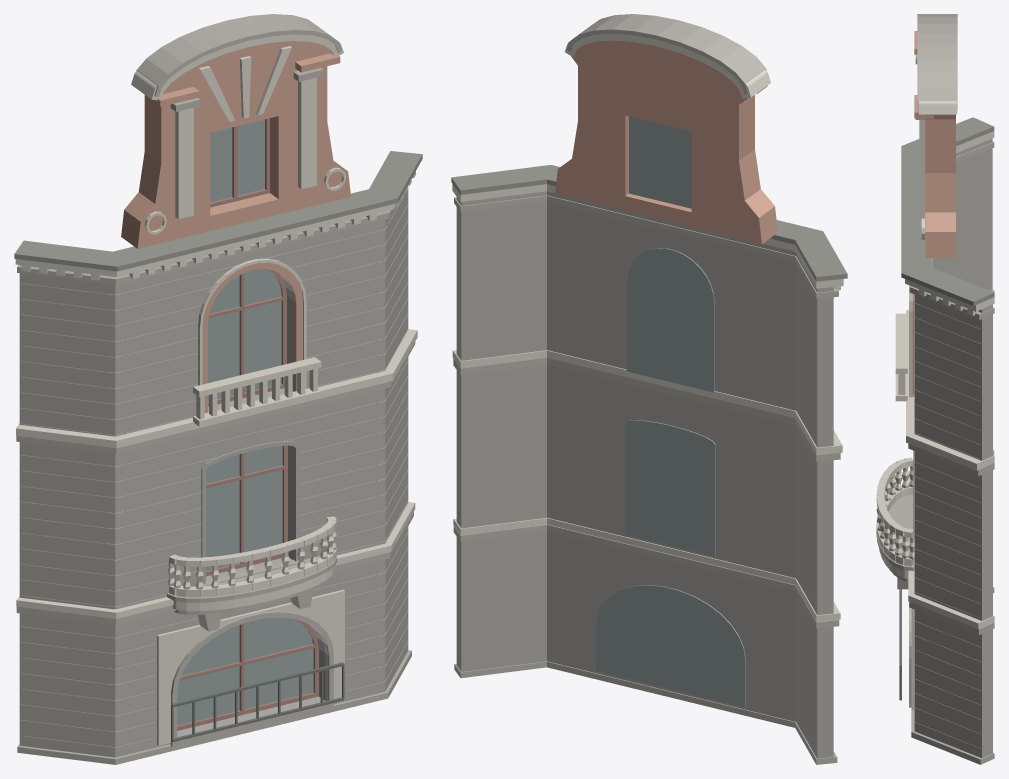
Rendered from huangpu-hardoon-building-chamfer-lod.glb.
3 renders of one model, left to right at view 1: azimuth 30°, elevation 25°; view 2: azimuth 150°, elevation 25°; view 3: azimuth 270°, elevation 25°, orthographic. The views are drawn at different scales.
Visible parts, largest first — view 1: 哈同大楼（慈安里大楼）东南转角立面; view 2: 哈同大楼（慈安里大楼）东南转角立面; view 3: 哈同大楼（慈安里大楼）东南转角立面.
Boxes of the visible parts, box(x1,y1,x2,y2) form: 哈同大楼（慈安里大楼）东南转角立面: box(14, 14, 422, 764); 哈同大楼（慈安里大楼）东南转角立面: box(451, 14, 847, 764); 哈同大楼（慈安里大楼）东南转角立面: box(876, 14, 994, 764).
Size of the model in its own units: 8.11 by 13.15 by 2.19.
